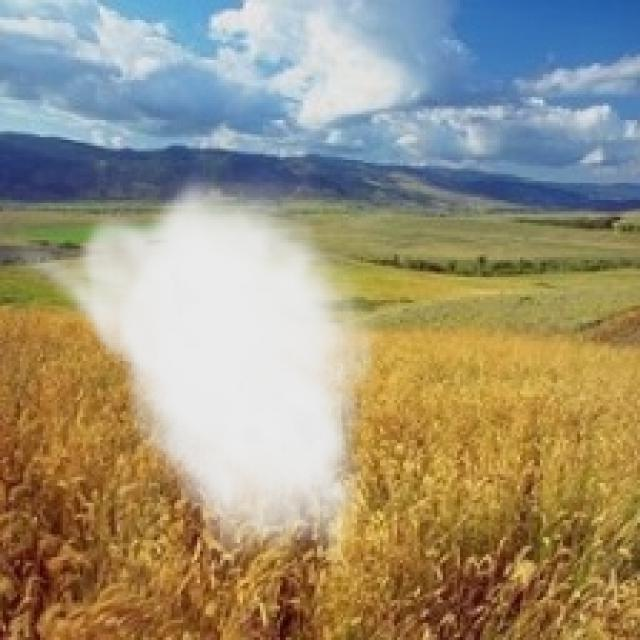smoke: (6, 163, 386, 580)
